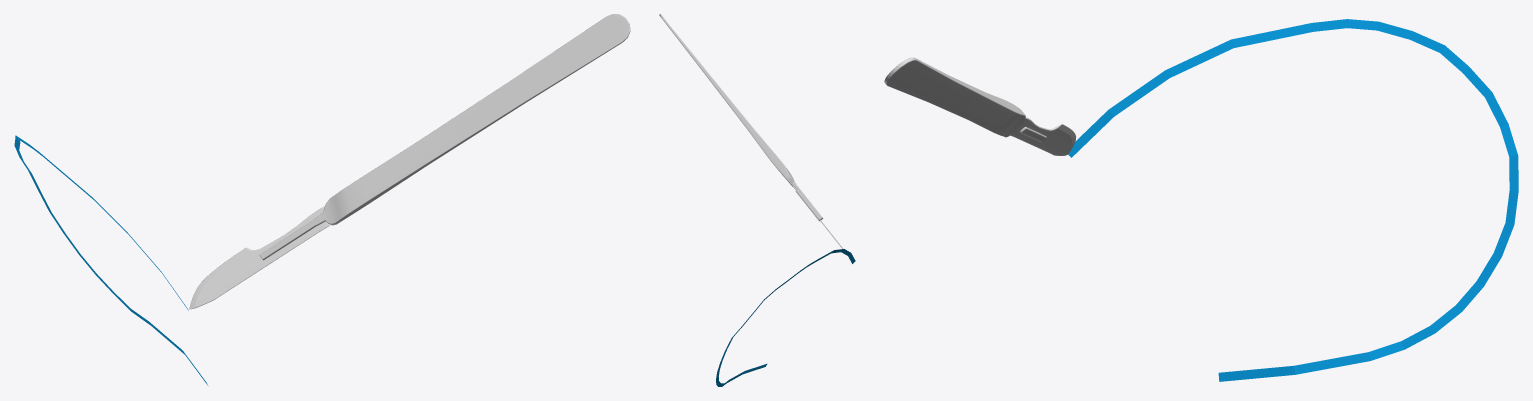
The model's file is guide_skin_incision.glb.
3 views of the same model, side by side, from view 1: azimuth 30°, elevation 25°; view 2: azimuth 150°, elevation 25°; view 3: azimuth 270°, elevation 25° (orthographic). The views are drawn at different scales.
Visible parts, largest first — view 1: scalple_ghost, skin_incision_line.001; view 2: scalple_ghost, skin_incision_line.001; view 3: skin_incision_line.001, scalple_ghost.
Boxes of the visible parts, bbox=[...] form: scalple_ghost: bbox=[189, 14, 630, 309]; skin_incision_line.001: bbox=[14, 135, 207, 385]; scalple_ghost: bbox=[659, 14, 843, 248]; skin_incision_line.001: bbox=[716, 249, 855, 386]; skin_incision_line.001: bbox=[1068, 19, 1518, 381]; scalple_ghost: bbox=[884, 57, 1076, 155].
Bounding box in the file's own units: 0.1315 × 0.1199 × 0.1377.
